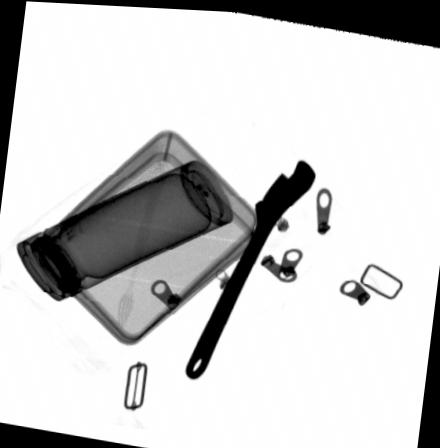Wrench: (183, 152, 318, 381)
